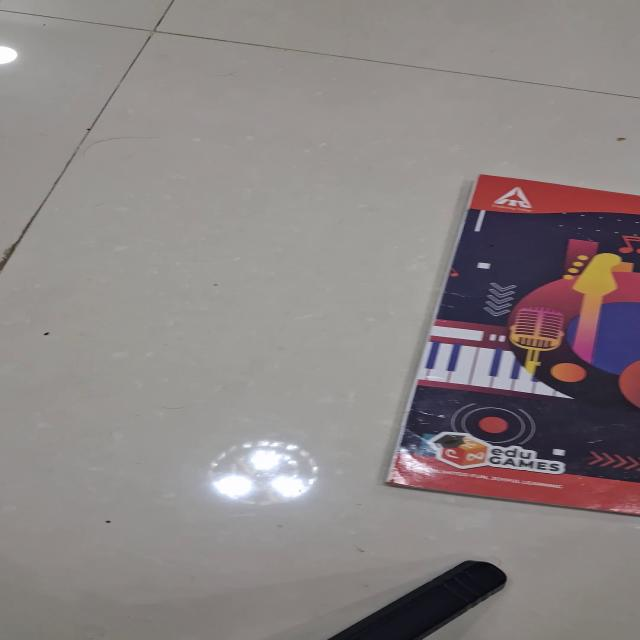paper: (383, 173, 639, 516)
